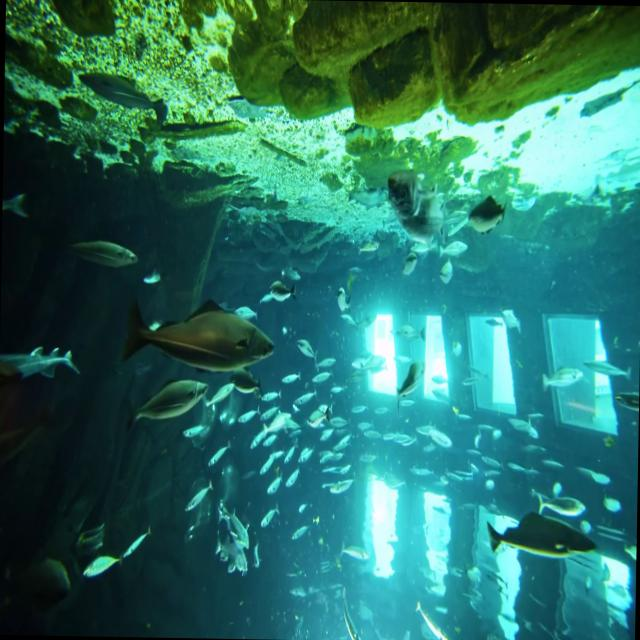fish: (122, 295, 278, 371), (488, 501, 600, 561), (125, 375, 208, 428), (55, 234, 138, 270), (468, 194, 508, 233)
